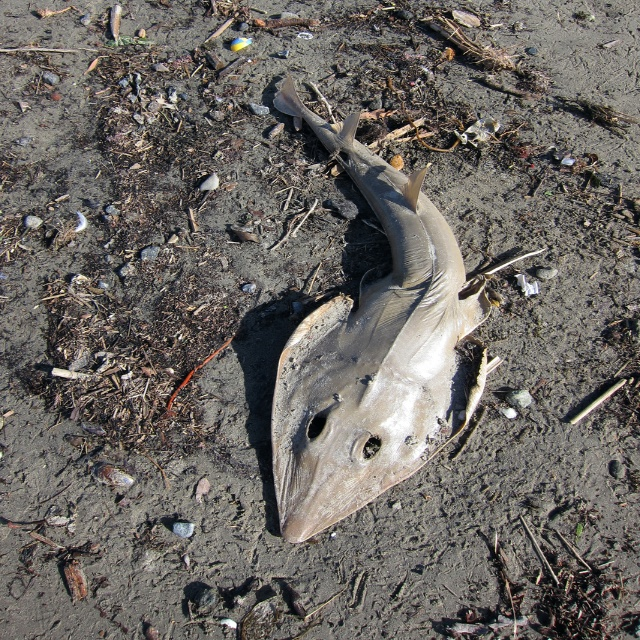Fish: (171, 75, 506, 532)
